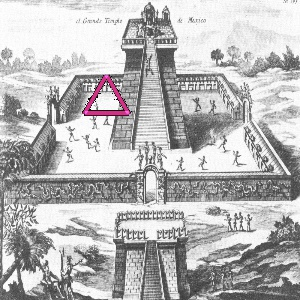triangle: (77, 72, 133, 120)
